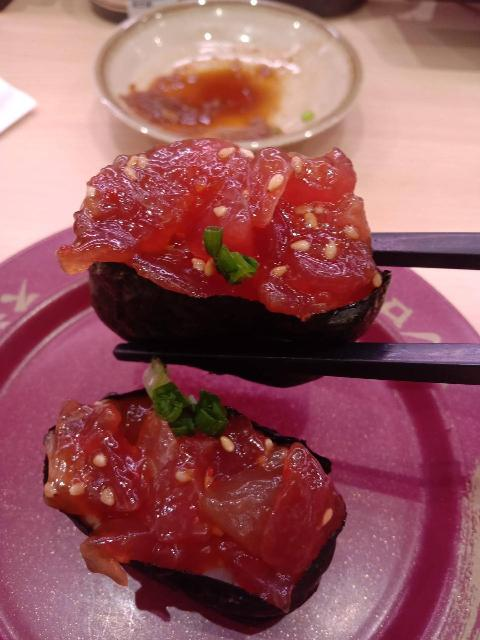janred: (10, 219, 480, 621)
